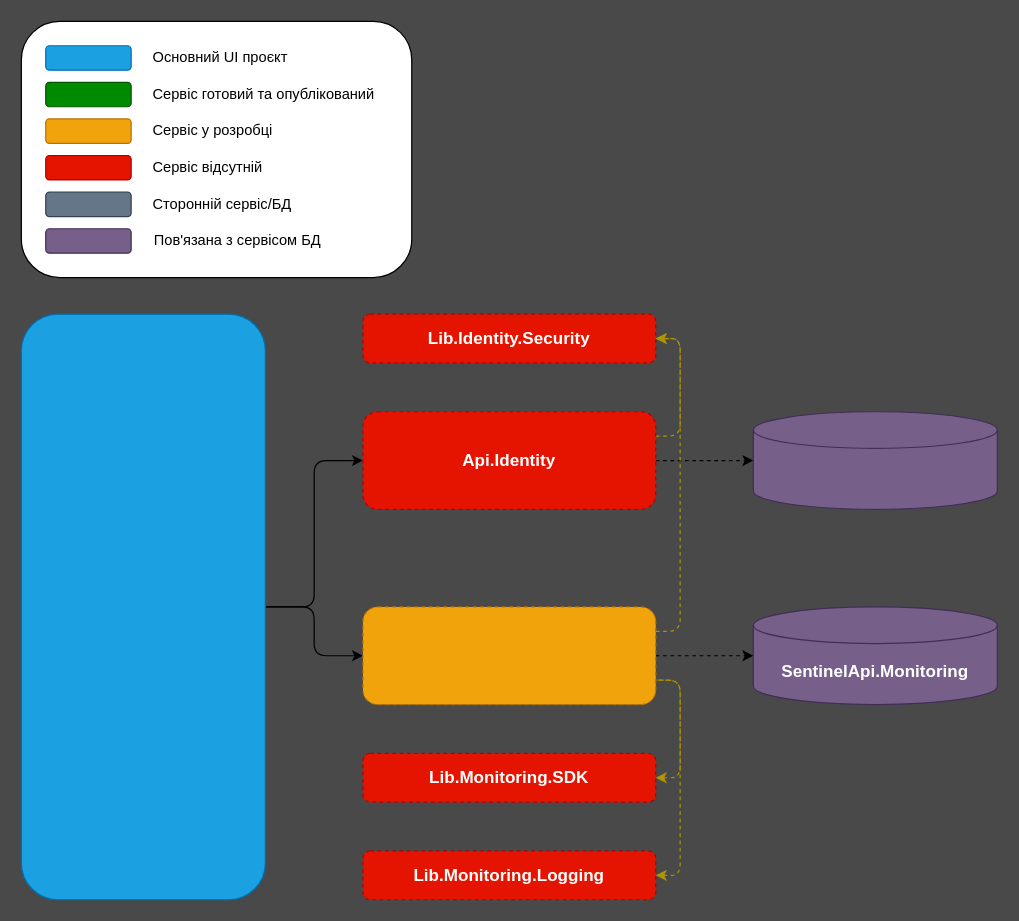
This 1019x921 diagram has some shape labels left out. The centre of each missing label's shape, as x and y in pixels:
"Api.Monitoring" belongs at point (509, 655).
"S entinelApi.Identity" belongs at point (874, 460).
"SentinelUI" belongs at point (142, 606).
